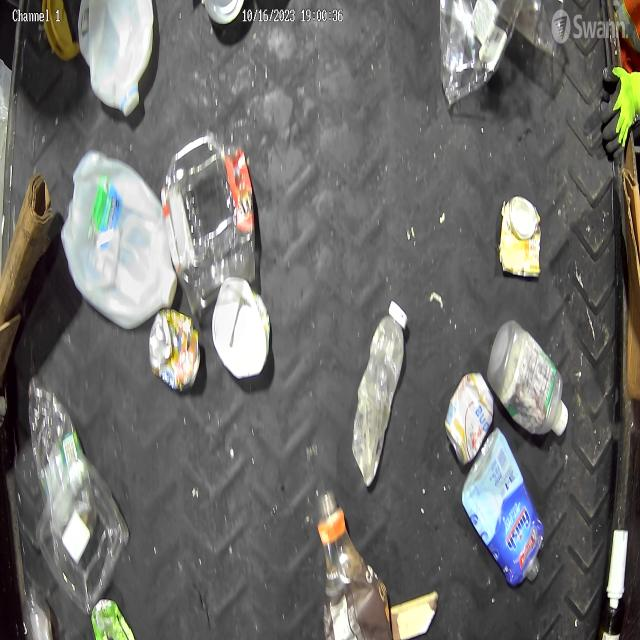can: (444, 371, 495, 469), (149, 307, 201, 390), (500, 196, 542, 281), (202, 0, 244, 24)
milk_jug: (60, 150, 178, 330), (78, 0, 156, 117)
non_white_jug: (462, 429, 545, 589)
plastic_bottle: (352, 299, 408, 490), (27, 374, 88, 506)
